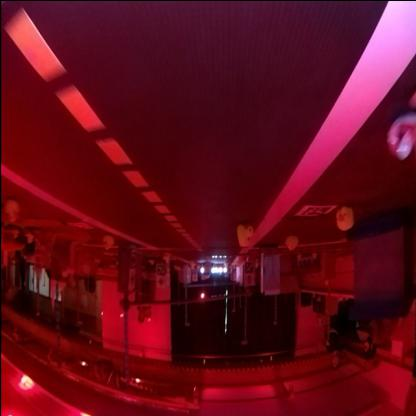Duckie: (336, 207, 352, 230), (237, 225, 253, 246), (3, 200, 18, 222), (286, 237, 298, 249), (102, 236, 113, 248)
Intersection sign: (158, 277, 164, 285)
QR code: (295, 205, 335, 216), (246, 262, 254, 274), (158, 266, 164, 274)
Signal sign: (246, 275, 253, 285)
Traffic light: (199, 290, 205, 298)
